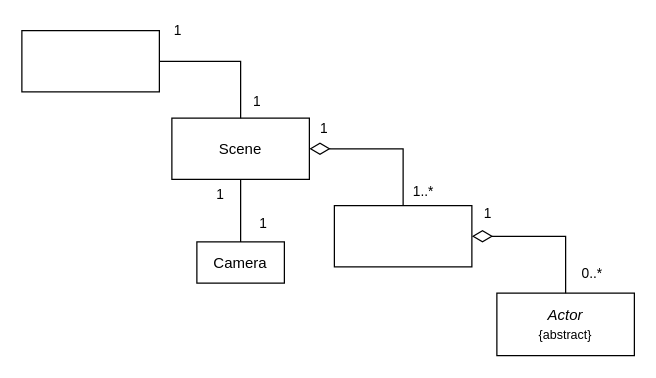
Some shapes in this 656 by 378 pixel diagram are drawn without their labels. The box of each missing label's shape, as (x1, y1, x2, y2) in pixels:
Controller (Game): (21, 29, 159, 92)
Layer: (333, 204, 472, 267)
